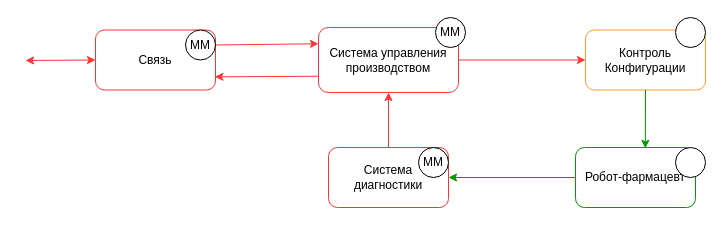
This 723x225 diagram has some shape labels left out. Here are the shapes that lost their labels. From the top down, the centre of each, then its label:
the point at 690,32: SS
the point at 690,162: SM
